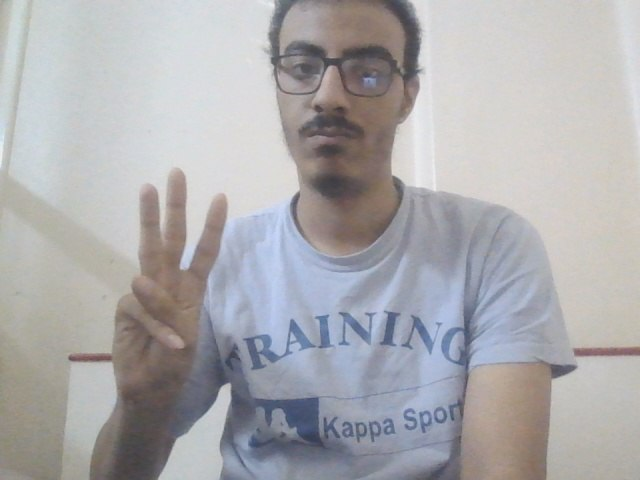Water: (105, 164, 239, 410)
